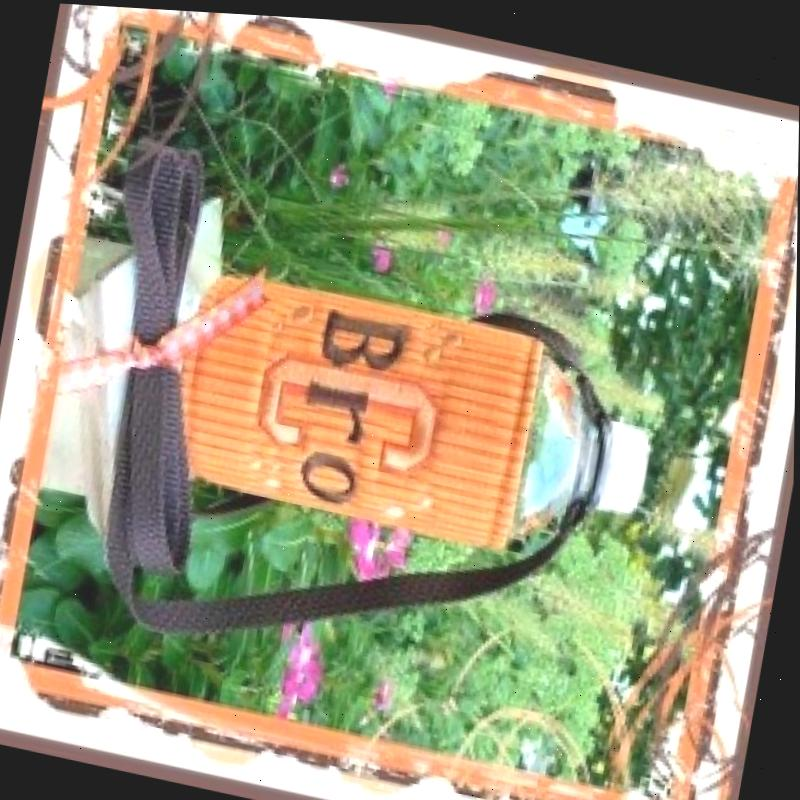botella: (507, 345, 662, 554)
